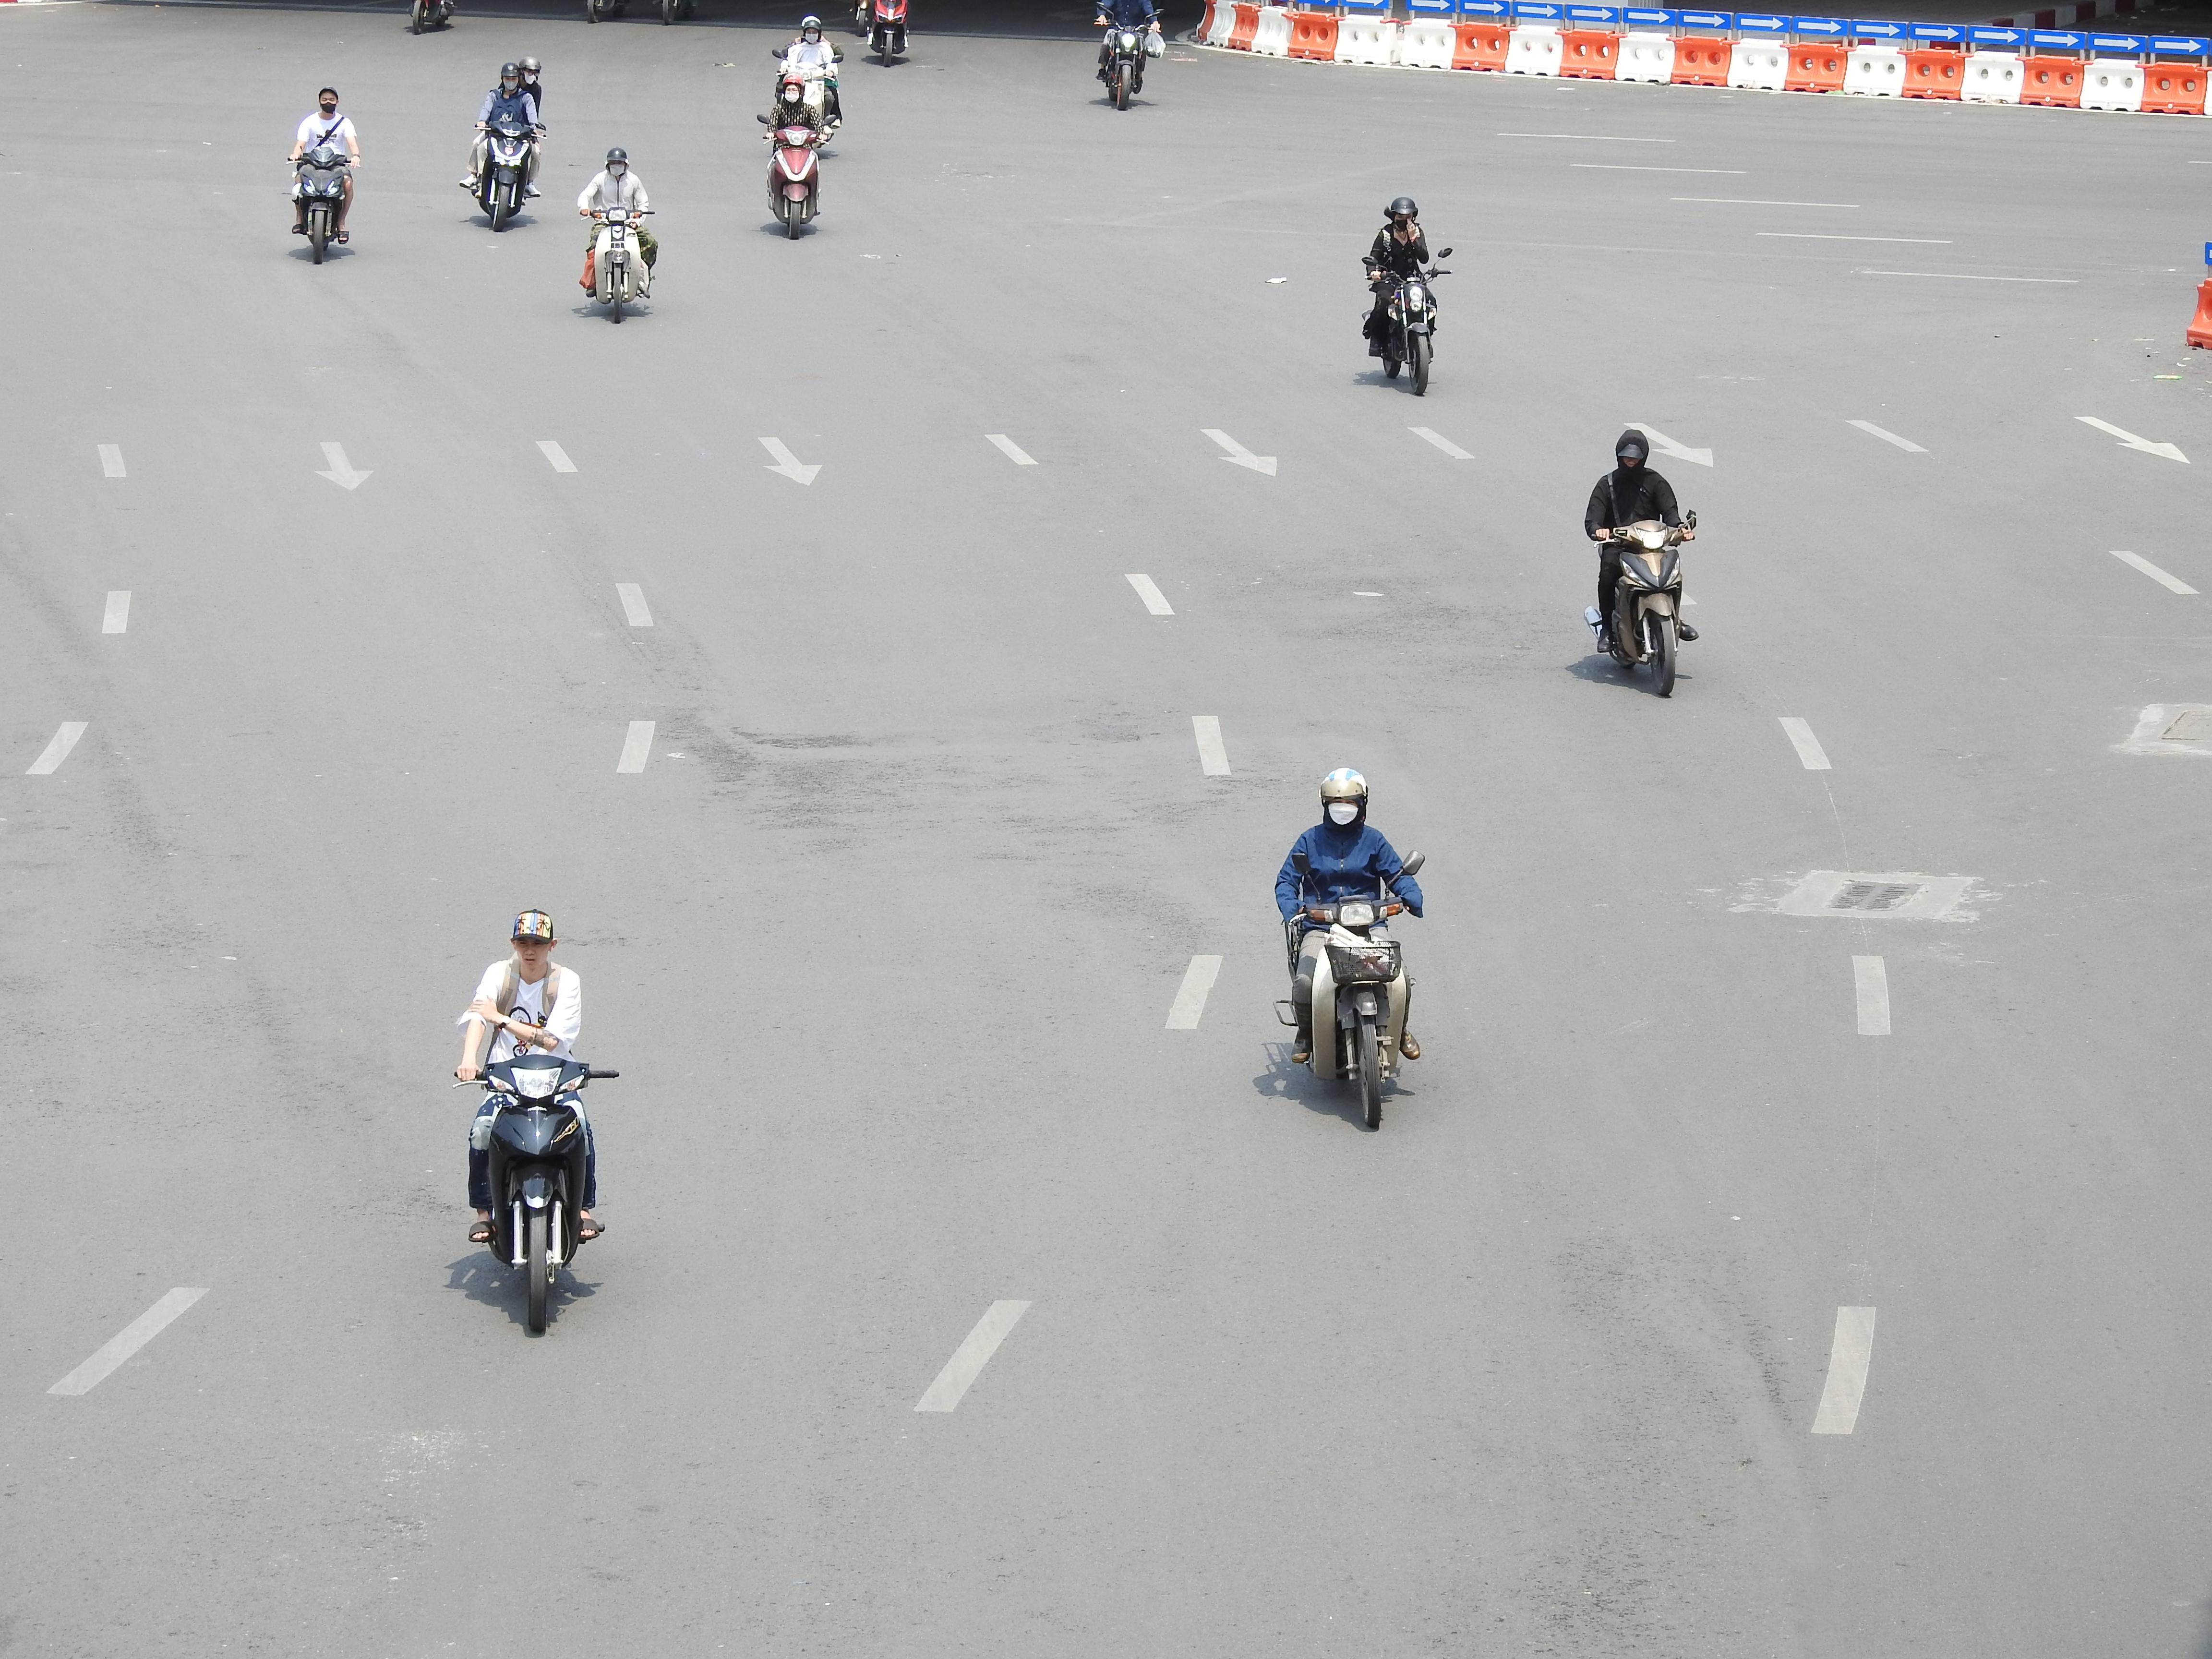motorbike: (455, 908, 617, 1337), (1273, 763, 1426, 1133), (1583, 425, 1696, 699), (1362, 195, 1449, 397), (578, 145, 657, 324), (465, 59, 545, 230), (289, 87, 357, 265), (759, 78, 829, 239), (770, 16, 843, 139), (1096, 0, 1158, 110), (855, 0, 913, 66)
